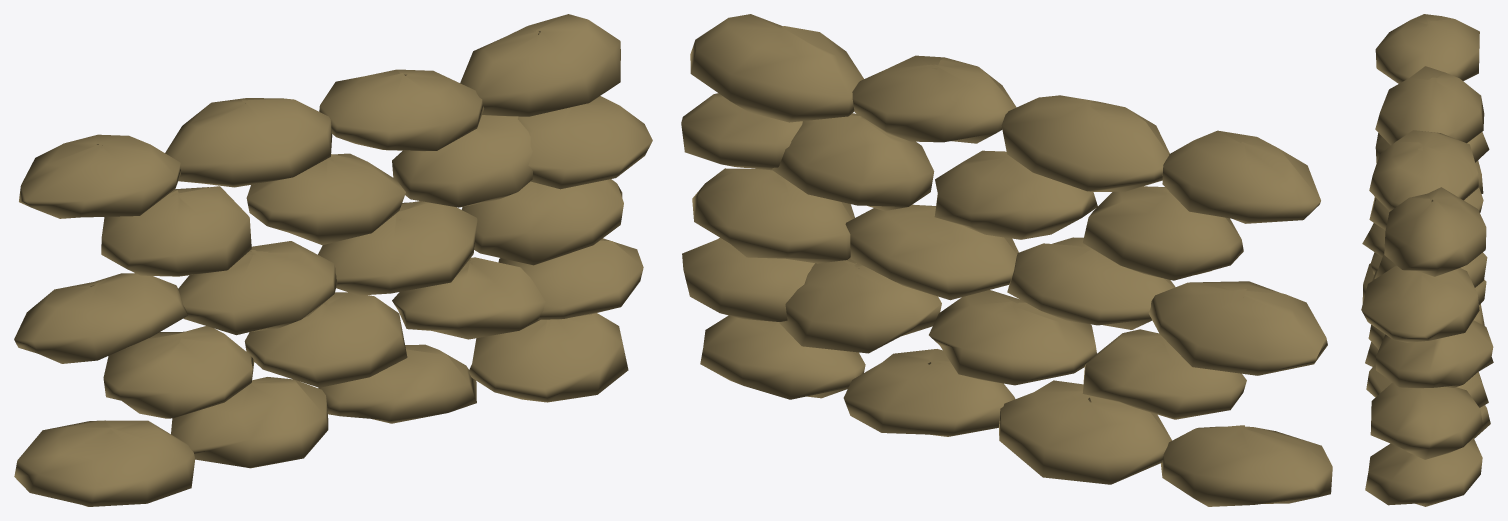
Rendered from sandbag_02.obj.
3 renders of one model, left to right at view 1: azimuth 30°, elevation 25°; view 2: azimuth 150°, elevation 25°; view 3: azimuth 270°, elevation 25°, orthographic. The views are drawn at different scales.
Parts seen in each view (by area): view 1: sandbag_02; view 2: sandbag_02; view 3: sandbag_02.
Boxes of the visible parts, left/top/right/bottom form: sandbag_02: left=14, top=14, right=652, bottom=506; sandbag_02: left=681, top=14, right=1332, bottom=506; sandbag_02: left=1361, top=14, right=1493, bottom=506.
Bounding box in the file's own units: 1.94 × 1.05 × 0.4272.
